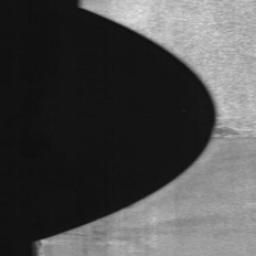Crescent gap: (40, 7, 216, 240)
